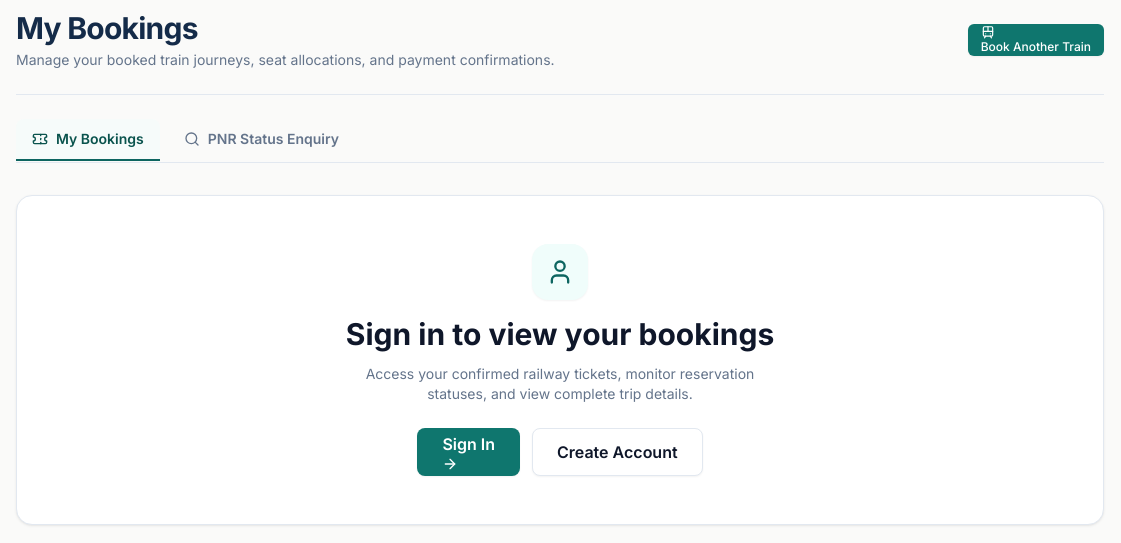
Test case: Sprint 1 Critical UX Remediation — Automated Verification › Scope A — Public PNR Enquiry without Login › allows unauthenticated users to switch from My Bookings tab to PNR Status tab
Expected: the heading "Sign in to view your bookings" is shown, [346,316,774,352]
// Click the PNR Status Enquiry tab
Click the tab "PNR Status Enquiry": (261,140) [168,119,355,161]
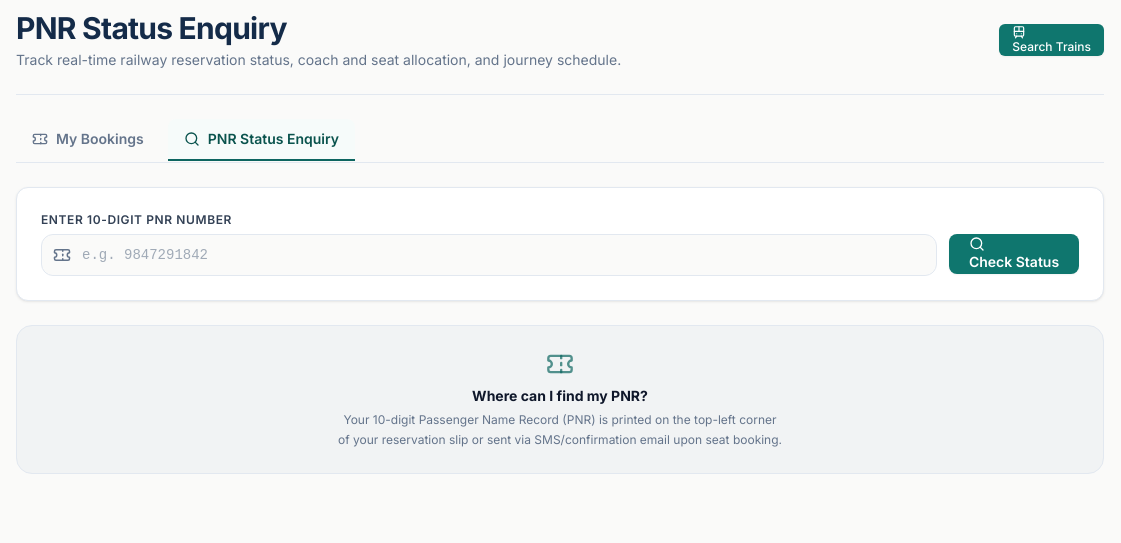
Expected: the form named "pnr status enquiry" is shown, [41,212,1079,276]
Expected: the field labelled "Enter 10-Digit PNR Number" is shown, [41,234,937,276]
